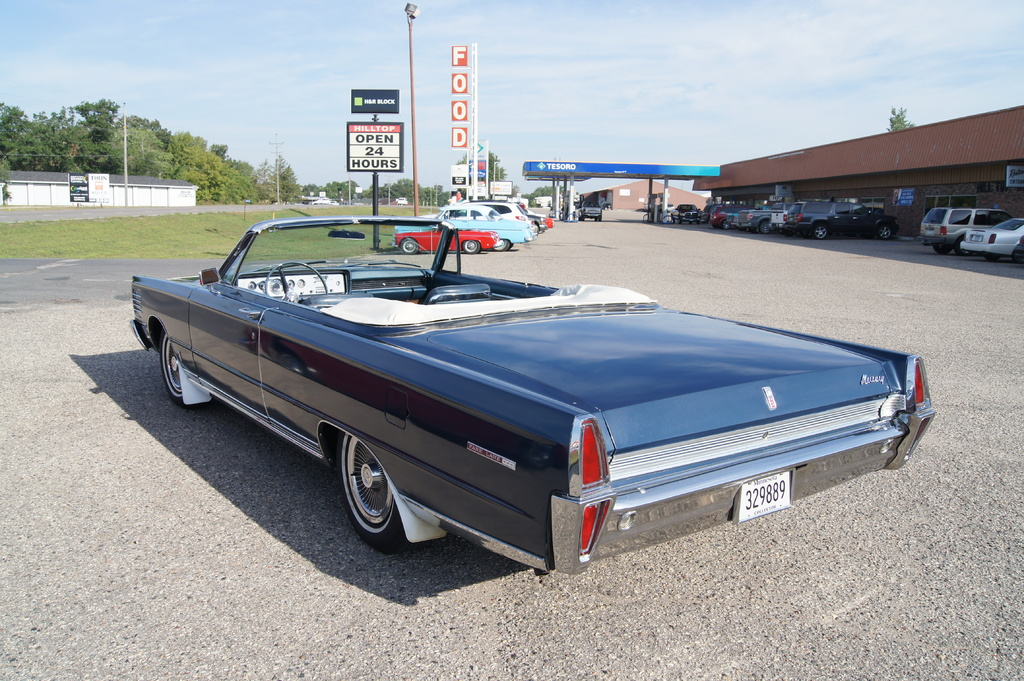Car: (118, 228, 939, 566), (392, 197, 547, 253), (667, 197, 831, 236), (922, 208, 1003, 252), (807, 203, 896, 240), (960, 215, 1023, 262), (577, 199, 603, 222), (311, 193, 338, 204), (394, 197, 410, 208)
